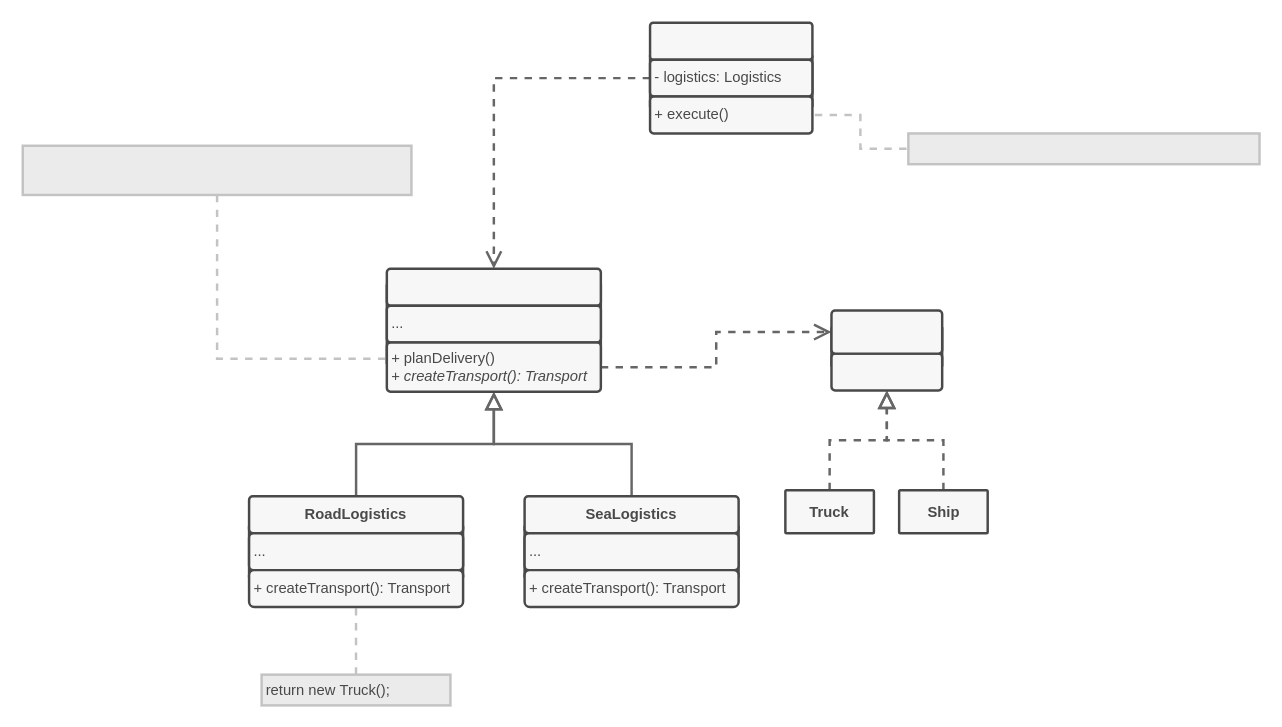
Some shapes in this 1282 by 727 pixel diagram are drawn without their labels. Each missing label, with the centre of its shape:
+ deliver(): point 886,371
<<interface>> Transport: point 886,331
const transport = this.createTransport(); return transport.deliver();: point 216,170
Logistics: point 493,286
LogisticsApplication: point 730,40
return this.logistics.planDelivery();: point 1083,148
